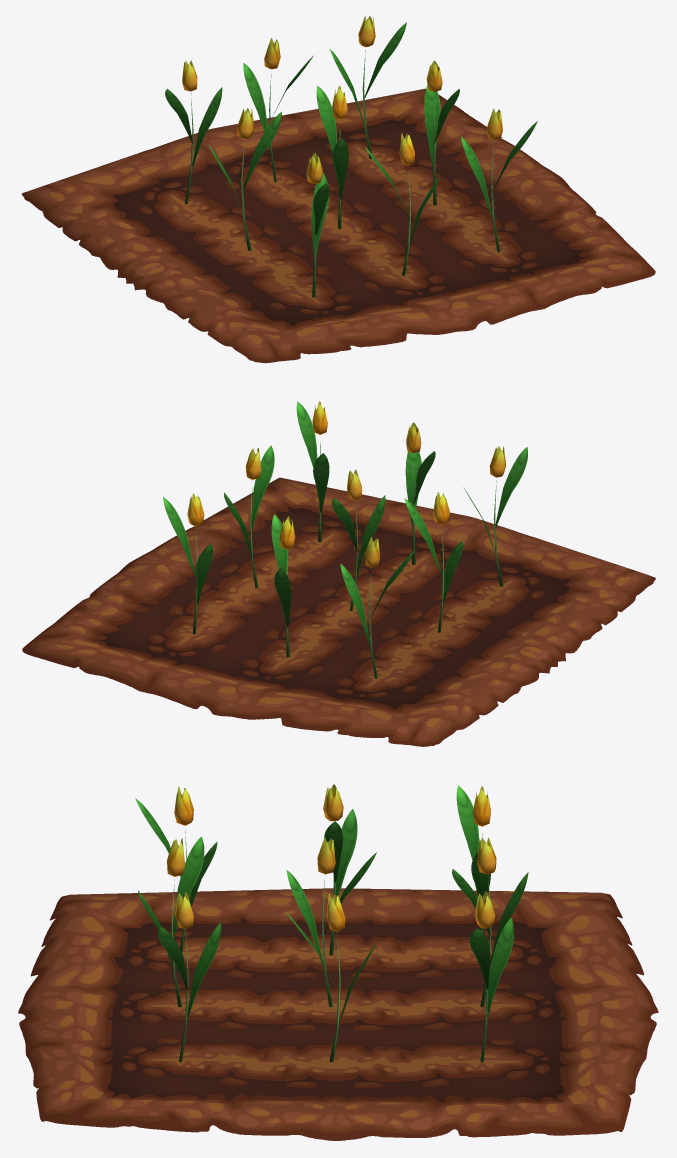
The model's file is Tulip_Field_Yellow_Lv2.FBX.
The picture shows the model from 3 angles, top to bottom: view 1: azimuth 30°, elevation 25°; view 2: azimuth 150°, elevation 25°; view 3: azimuth 270°, elevation 25°; orthographic projection. The views are drawn at different scales.
Parts seen in each view (by area): view 1: Tulip_Field_Yellow_Lv2; view 2: Tulip_Field_Yellow_Lv2; view 3: Tulip_Field_Yellow_Lv2.
Part boxes in pixels (x1=…): Tulip_Field_Yellow_Lv2: x1=22, y1=16, x2=655, y2=363; Tulip_Field_Yellow_Lv2: x1=22, y1=401, x2=655, y2=746; Tulip_Field_Yellow_Lv2: x1=18, y1=784, x2=658, y2=1140.
Size of the model in its own units: 274 by 88.48 by 296.
